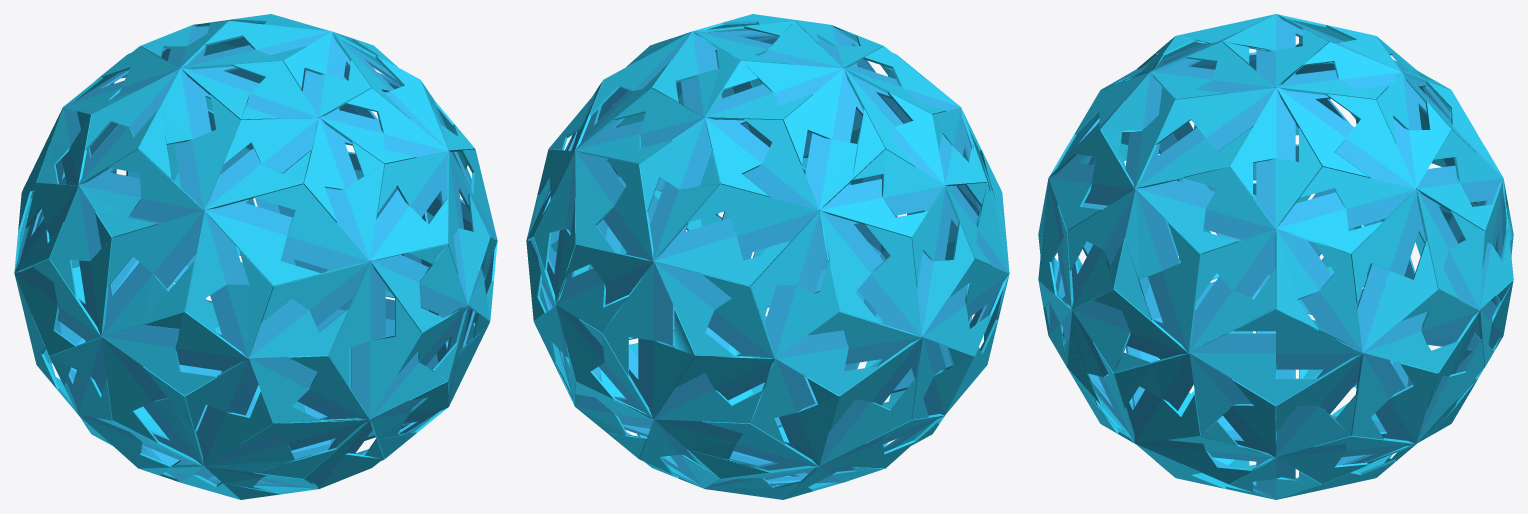
Rendered from SmallHexagonalHexecontahedronSA1.glb.
3 renders of one model, left to right at view 1: azimuth 30°, elevation 25°; view 2: azimuth 150°, elevation 25°; view 3: azimuth 270°, elevation 25°, orthographic.
Visible parts, largest first — view 1: root; view 2: root; view 3: root.
Boxes of the visible parts, x1,y1,x2,y2 form: root: (14,14,497,499); root: (526,14,1009,499); root: (1038,14,1513,499).
Bounding box in the file's own units: 9.6 × 9.6 × 9.6.
